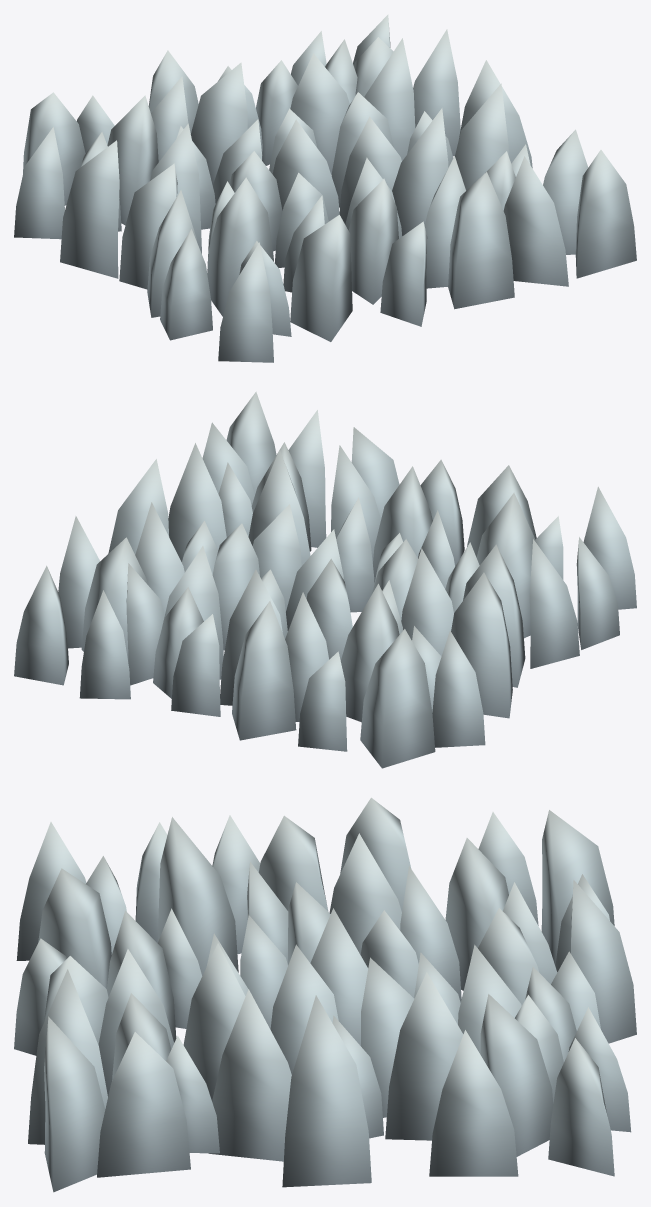
The model's file is TopGrass_Snow.fbx.
The picture shows the model from 3 angles, top to bottom: view 1: azimuth 30°, elevation 25°; view 2: azimuth 150°, elevation 25°; view 3: azimuth 270°, elevation 25°; orthographic projection. The views are drawn at different scales.
Visible parts, largest first — view 1: TopGrass_Snow_LOD0; view 2: TopGrass_Snow_LOD0; view 3: TopGrass_Snow_LOD0.
Boxes of the visible parts, box(x1,y1,x2,y2) form: TopGrass_Snow_LOD0: box(14, 14, 636, 362); TopGrass_Snow_LOD0: box(14, 391, 636, 768); TopGrass_Snow_LOD0: box(14, 797, 636, 1192).
Size of what is drawn, in the model's own units: 1.06 by 0.3125 by 1.03.
